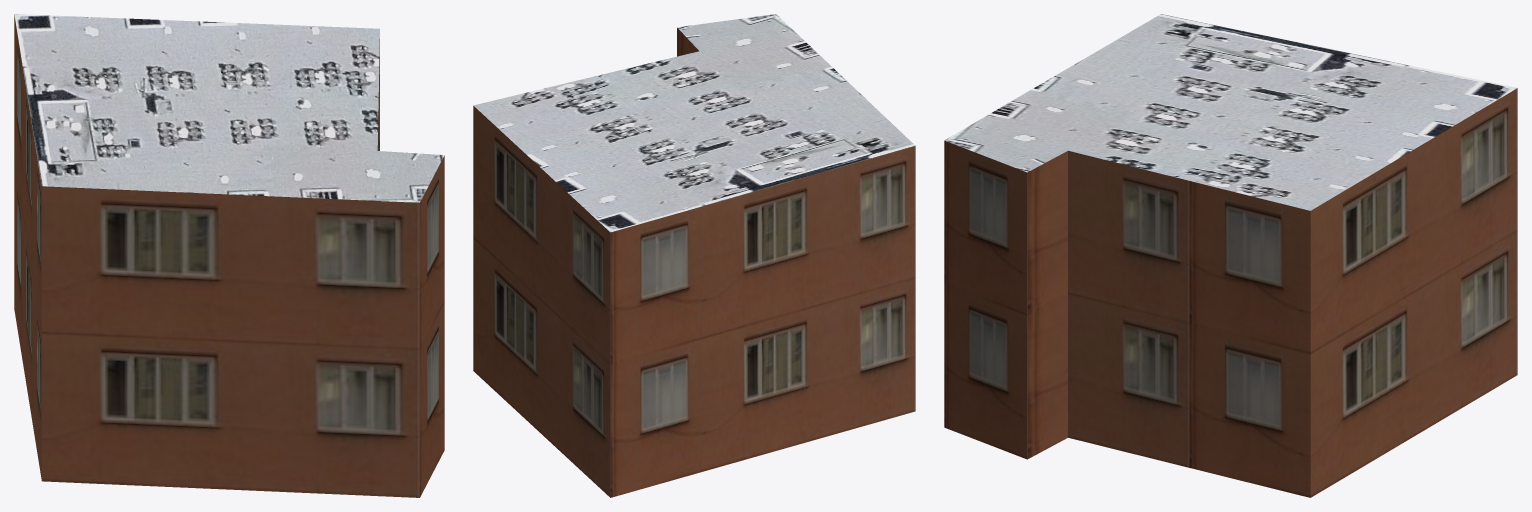
The model's file is ResTex__3793.fbx.
The picture shows the model from 3 angles, left to right: view 1: azimuth 30°, elevation 25°; view 2: azimuth 150°, elevation 25°; view 3: azimuth 270°, elevation 25°; orthographic projection. The views are drawn at different scales.
Parts seen in each view (by area): view 1: CityEngineMaterial_20_m, CityEngineMaterial_8_m; view 2: CityEngineMaterial_20_m, CityEngineMaterial_8_m; view 3: CityEngineMaterial_20_m, CityEngineMaterial_8_m.
Boxes of the visible parts, x1,y1,x2,y2 form: CityEngineMaterial_20_m: (14, 15, 444, 497); CityEngineMaterial_8_m: (14, 14, 444, 202); CityEngineMaterial_20_m: (473, 27, 915, 497); CityEngineMaterial_8_m: (473, 14, 915, 232); CityEngineMaterial_20_m: (944, 88, 1517, 497); CityEngineMaterial_8_m: (944, 14, 1516, 210).
Size of the model in its own units: 8.83 by 6 by 10.87.
2 materials, 2 textured.
